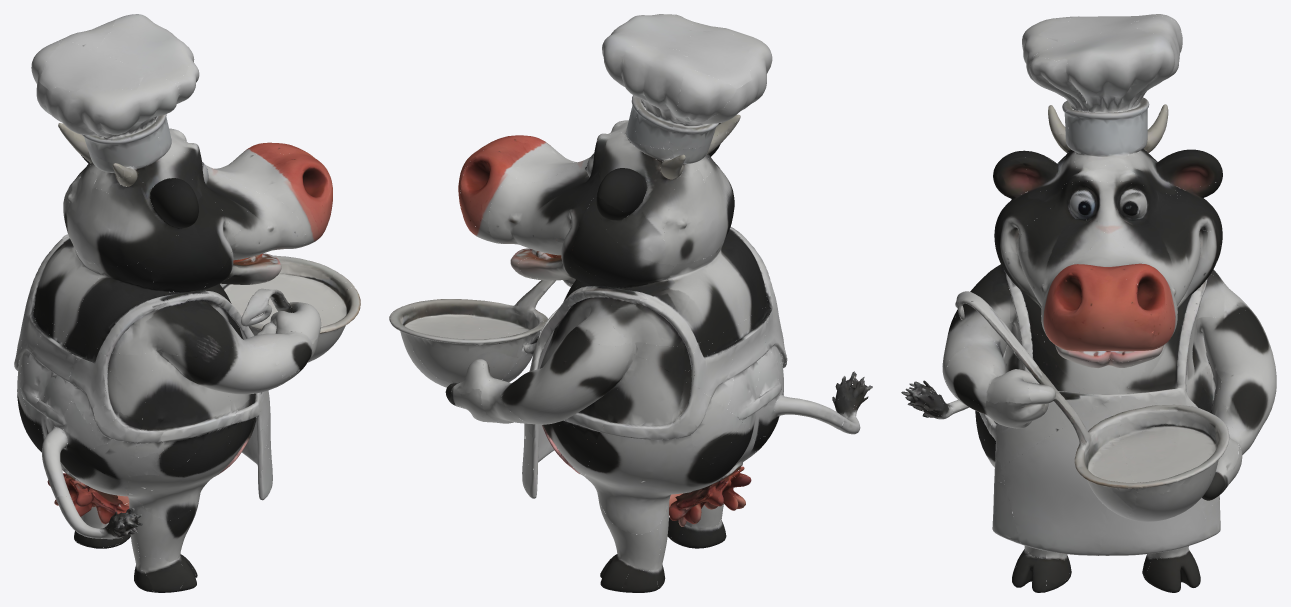
Rendered from cow.glb.
3 views of the same model, side by side, from view 1: azimuth 30°, elevation 25°; view 2: azimuth 150°, elevation 25°; view 3: azimuth 270°, elevation 25° (orthographic). The views are drawn at different scales.
Visible parts, largest first — view 1: PEPCow; view 2: PEPCow; view 3: PEPCow.
Boxes of the visible parts, box(x1,y1,x2,y2) form: PEPCow: box(14, 14, 360, 592); PEPCow: box(389, 14, 872, 592); PEPCow: box(901, 14, 1276, 592).
Bounding box in the file's own units: 2.92 × 4 × 2.48.
1 material, 1 textured.
